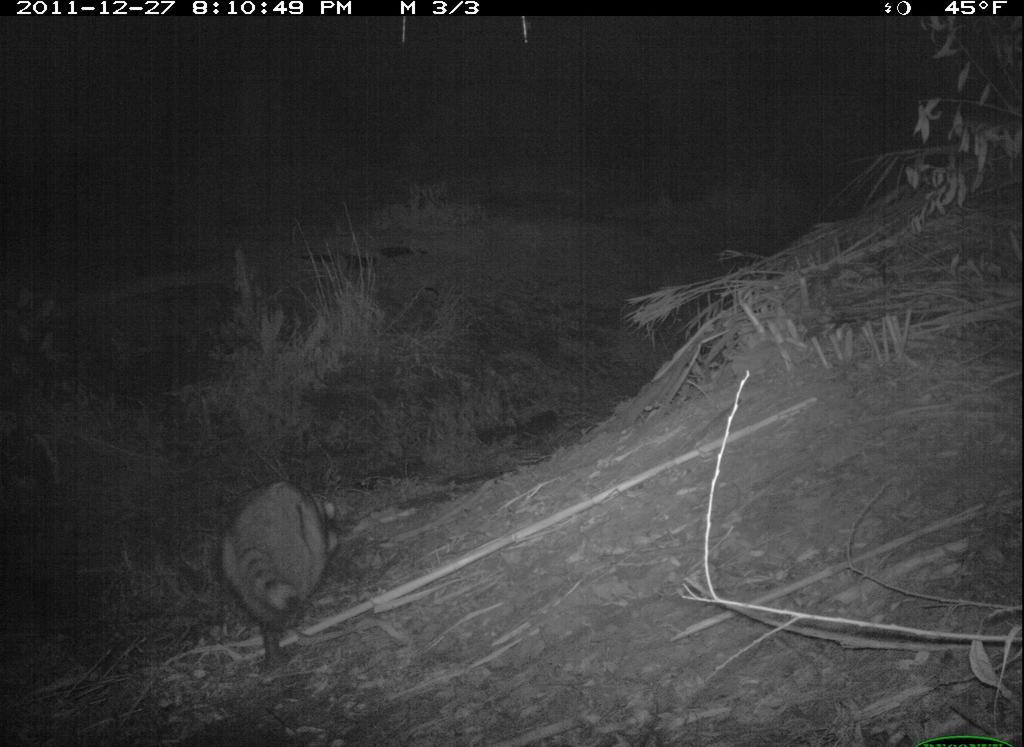raccoon: (212, 466, 349, 681)
